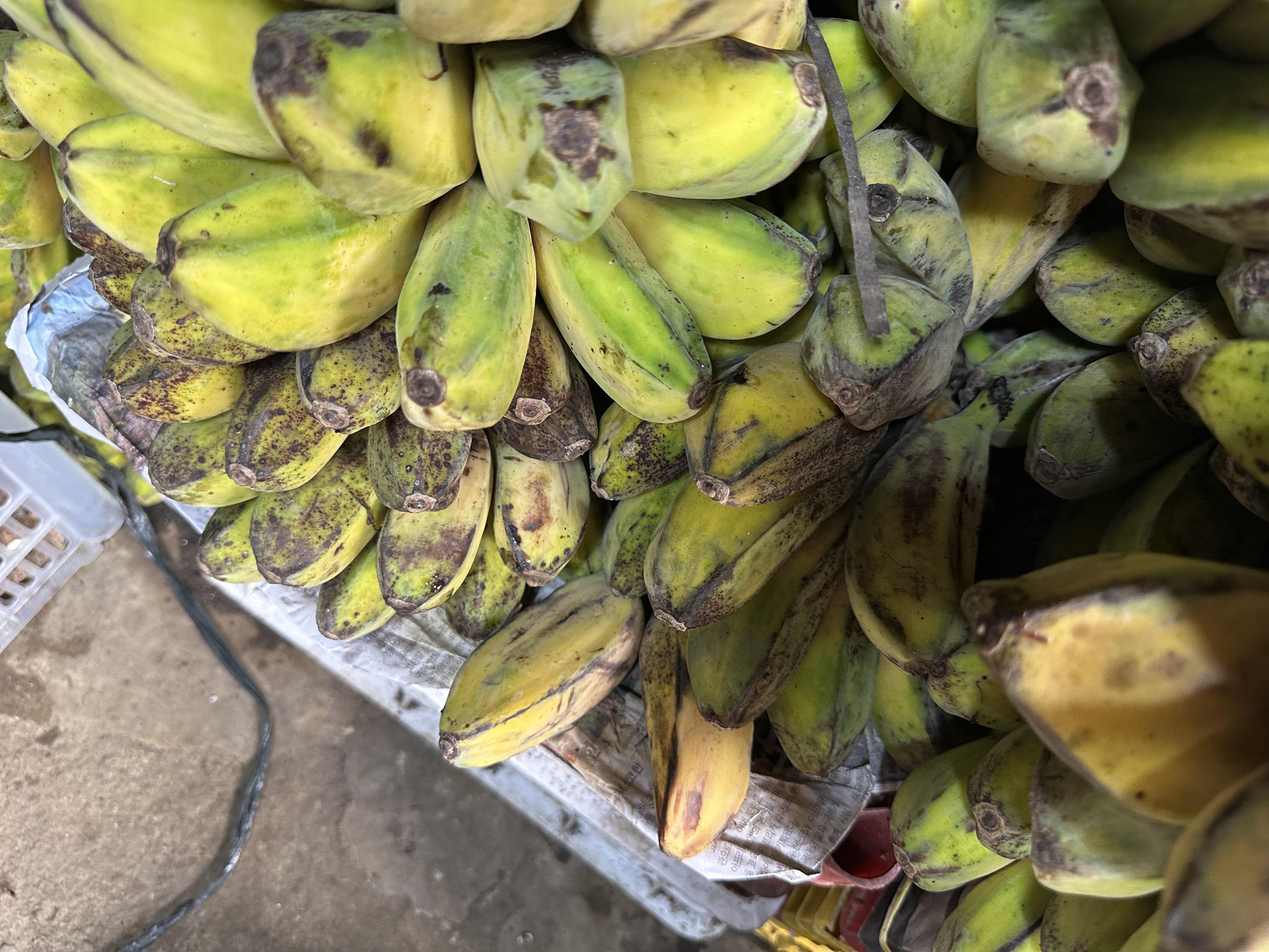underripe: (0, 0, 827, 430), (644, 131, 1018, 775), (63, 203, 598, 639), (858, 0, 1269, 249)
